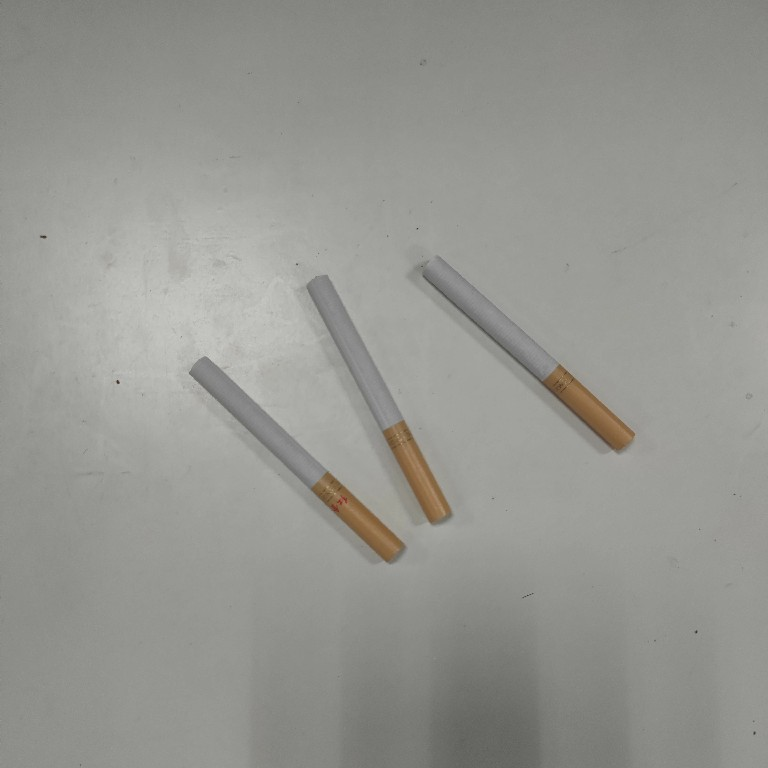cigarette: (188, 352, 409, 566), (419, 252, 638, 458), (304, 270, 455, 526)
